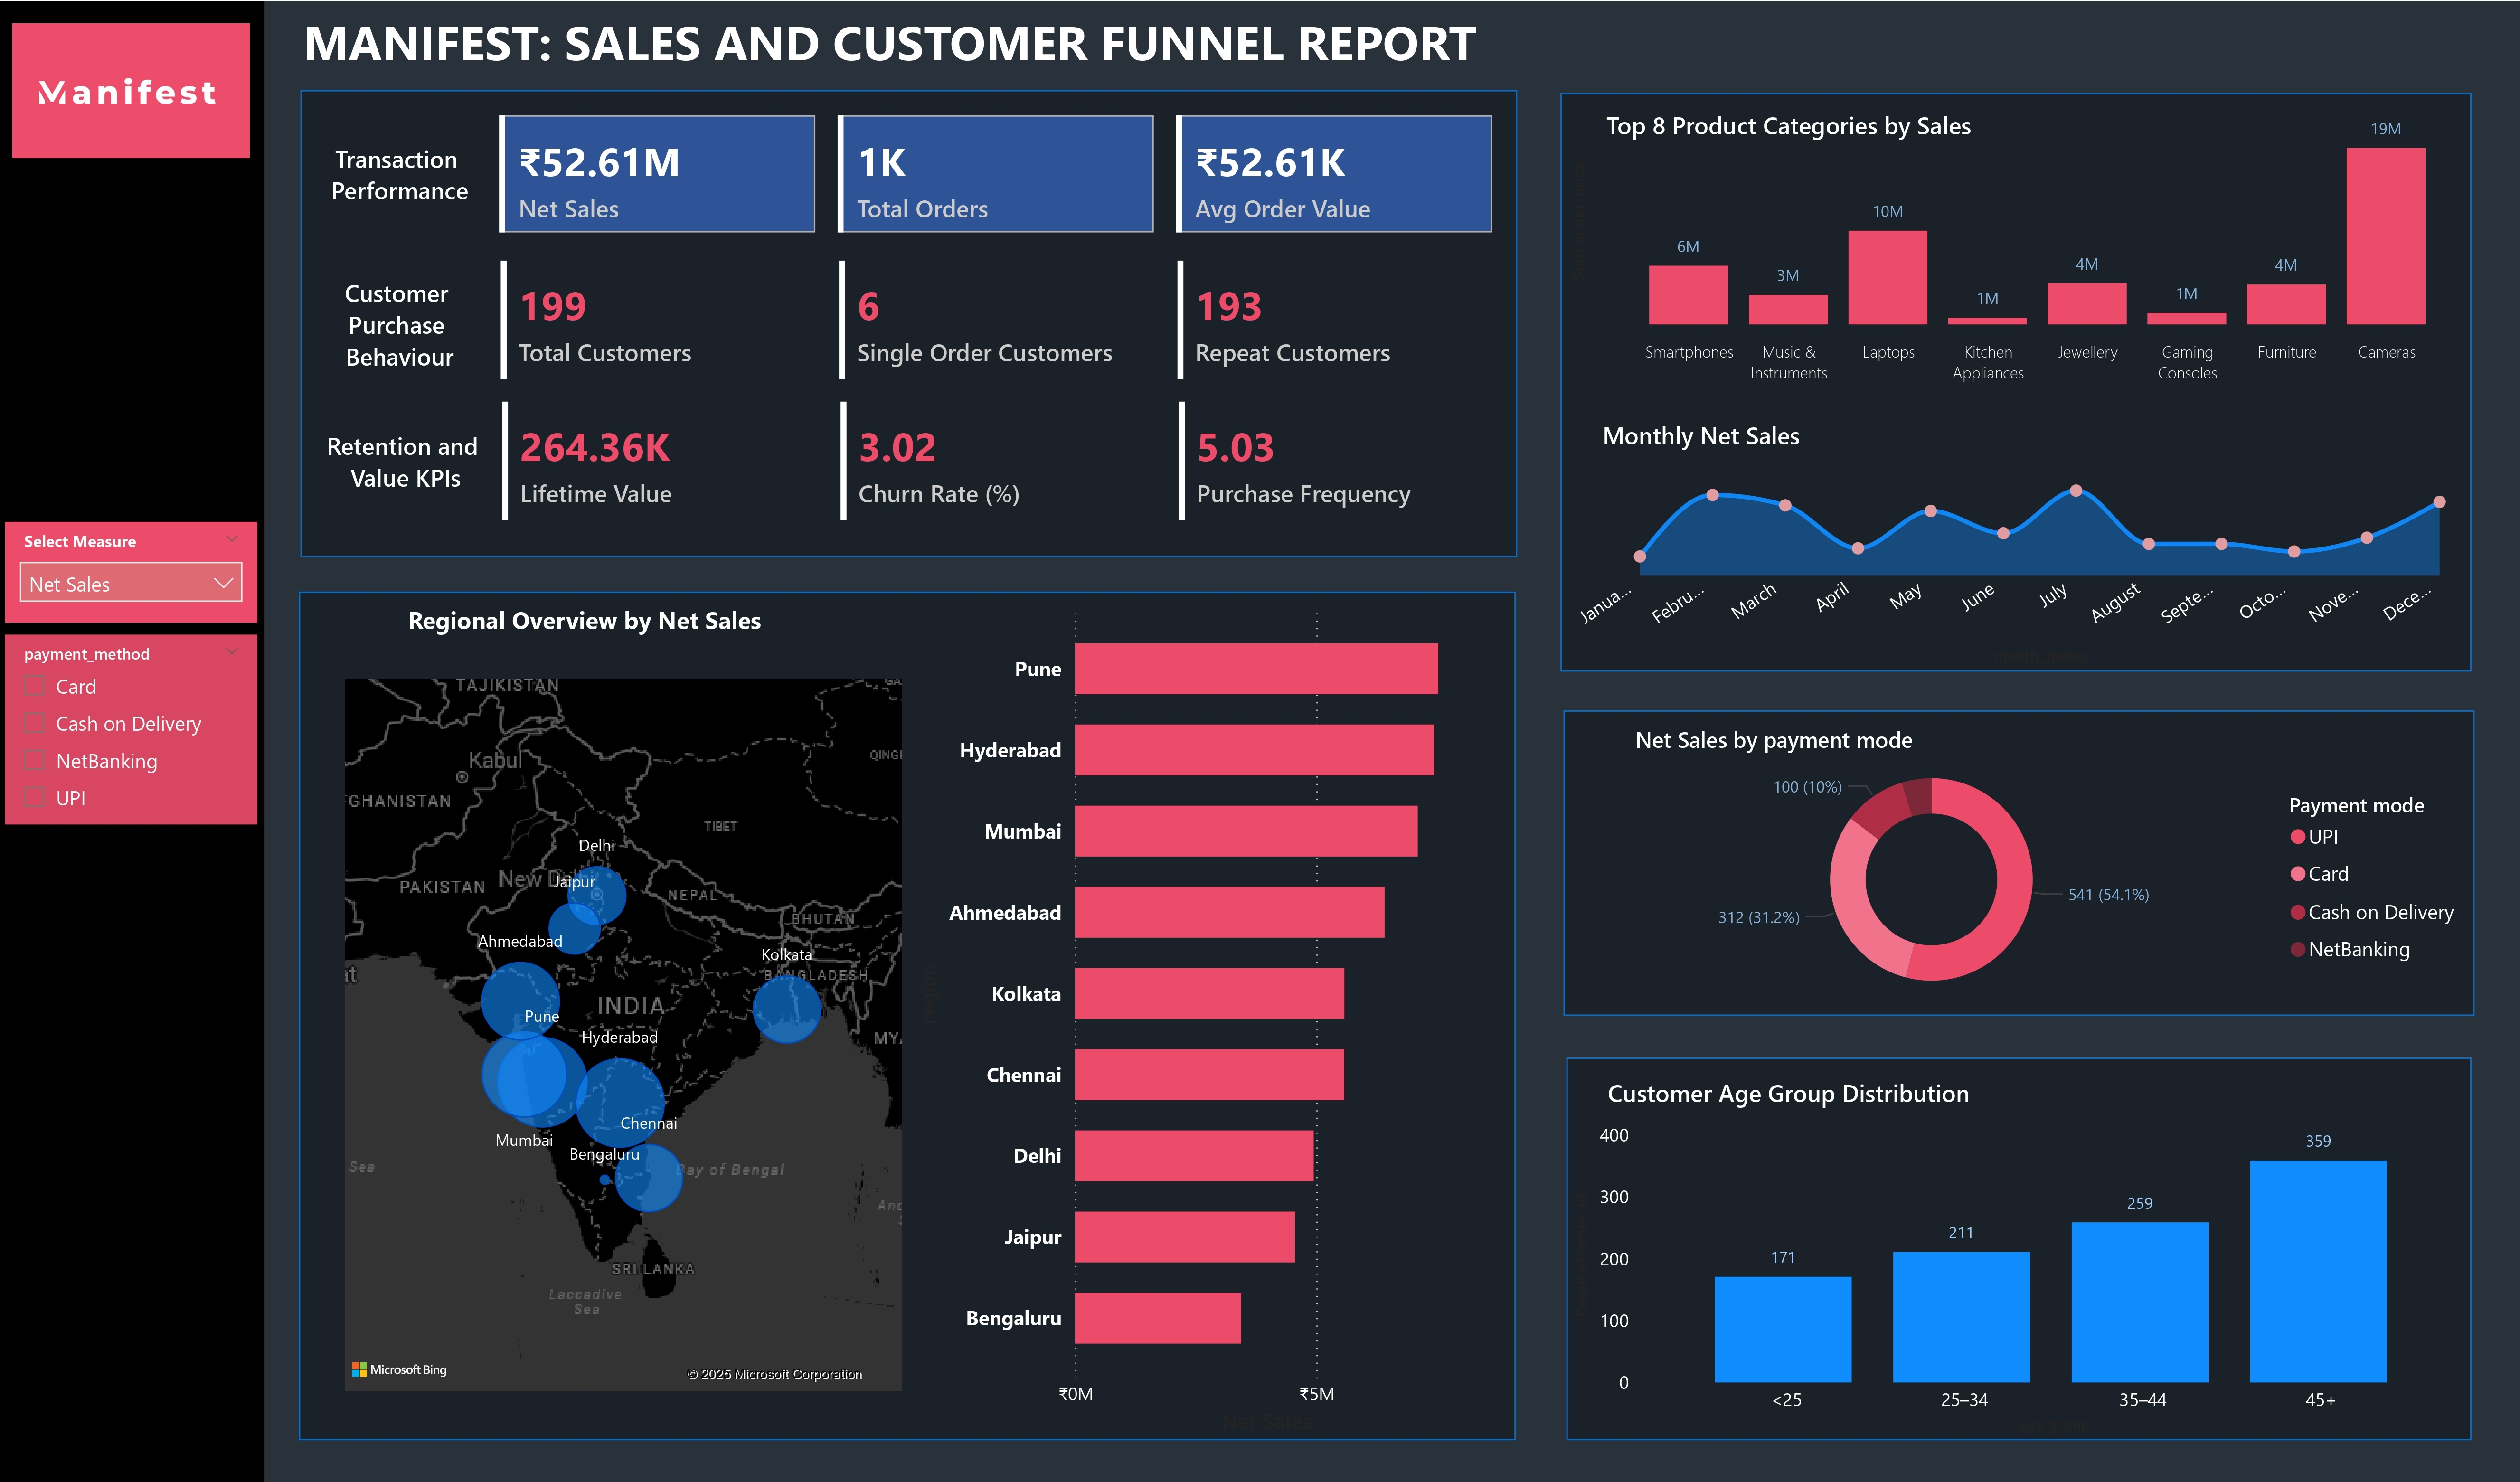

This screenshot's page, from the dashboard's own definition file:
{"tool":"powerbi","page":{"name":"dashboard","canvas":[1700,1000],"ordinal":0},"visuals":[{"type":"shape","box":[0,0,178.8,1000],"z":0},{"type":"textbox","box":[200,0,1210,60],"z":1000},{"type":"shape","box":[202.5,60,820,315],"z":2000},{"type":"cardVisual","fields":{"Data":["cleaned_data.Net Sales","cleaned_data.Total Orders","cleaned_data.Avg Order Value"]},"box":[331.8,71.8,680,90],"z":3000},{"type":"card","fields":{"Values":["cleaned_data.Transaction Perf"]},"box":[184.4,61.1,171.1,111.1],"z":4000},{"type":"cardVisual","fields":{"Data":["cleaned_data.Total Customers","cleaned_data.Single Order Customers","cleaned_data.Repeat Customers"]},"box":[333.3,170,680,90],"z":5000},{"type":"card","fields":{"Values":["cleaned_data.Customer Purchase Behaviour"]},"box":[195.5,165.5,149.1,100],"z":6000},{"type":"cardVisual","fields":{"Data":["cleaned_data.Lifetime Value","cleaned_data.Churn Rate (%)","cleaned_data.Purchase Frequency"]},"box":[333.8,265,680,90],"z":7000},{"type":"card","fields":{"Values":["cleaned_data.Retention and Value KPIs"]},"box":[200,260,147.5,100],"z":8000},{"type":"shape","box":[202,398,820,572],"z":9000},{"type":"map","fields":{"Size":["cleaned_data.Net Sales"],"Category":["cleaned_data.region"]},"box":[228.3,451.7,385,490],"z":10000},{"type":"barChart","fields":{"Y":["cleaned_data.Net Sales"],"Category":["cleaned_data.region"]},"box":[613.3,398.3,388.3,571.7],"z":11000},{"type":"card","fields":{"Values":["cleaned_data.Map Title"]},"box":[233.6,400,321.4,39.3],"z":12000},{"type":"shape","box":[1052,62,614,390],"z":13000},{"type":"areaChart","fields":{"Y":["cleaned_data.net_price"],"Category":["cleaned_data.month_name"]},"box":[1053.3,292.2,615.6,160],"z":14000},{"type":"columnChart","fields":{"Category":["cleaned_data.category_name"],"Y":["cleaned_data.net_price"]},"box":[1053.8,65,613.8,200],"z":15000},{"type":"card","fields":{"Values":["cleaned_data.Top 8 Product Categories"]},"box":[1052.5,71.2,306.2,30],"z":16000},{"type":"card","fields":{"Values":["cleaned_data.Monthly Net Sales"]},"box":[993.8,280,306.2,30],"z":17000},{"type":"shape","box":[1054,478,614,206],"z":18000},{"type":"donutChart","fields":{"Category":["cleaned_data.payment_method"],"Y":["cleaned_data.order_id"]},"box":[1055.7,500,613.6,184.3],"z":19000},{"type":"card","fields":{"Values":["cleaned_data.Payement Title"]},"box":[1056,486,280,28],"z":20000},{"type":"slicer","fields":{"Values":["Select Measure.Select Measure"]},"box":[4.1,351.2,170,68.2],"z":21000},{"type":"shape","box":[1056,712,610,258],"z":21001},{"type":"slicer","fields":{"Values":["cleaned_data.payment_method"]},"box":[4,427,170,128],"z":21002},{"type":"columnChart","fields":{"Category":["cleaned_data.age group"],"Y":["cleaned_data.order_id"]},"box":[1055.6,745.6,610,224.4],"z":21003},{"type":"card","fields":{"Values":["cleaned_data.Age group distribution"]},"box":[1053.3,722.7,305.3,30],"z":21004},{"type":"image","box":[4.4,8.9,170,102.2],"z":21005}]}

Visuals, with their boxes in screenshot pixels (x1, y1, x2, y2), scaled from the page's 1700x1000 canvas onto the 2520x1482 screenshot:
shape: 0,0,265,1482
textbox: 296,0,2090,89
shape: 300,89,1516,556
cardVisual - cleaned_data.Net Sales x cleaned_data.Total Orders: 492,106,1500,240
card - cleaned_data.Transaction Perf: 274,91,527,255
cardVisual - cleaned_data.Total Customers x cleaned_data.Single Order Customers: 494,252,1502,385
card - cleaned_data.Customer Purchase Behaviour: 290,245,511,394
cardVisual - cleaned_data.Lifetime Value x cleaned_data.Churn Rate (%): 495,393,1503,526
card - cleaned_data.Retention and Value KPIs: 296,385,515,534
shape: 300,590,1515,1437
map - cleaned_data.Net Sales x cleaned_data.region: 339,670,909,1396
barChart - cleaned_data.Net Sales x cleaned_data.region: 909,590,1485,1437
card - cleaned_data.Map Title: 346,593,823,651
shape: 1559,92,2470,670
areaChart - cleaned_data.net_price x cleaned_data.month_name: 1561,433,2474,670
columnChart - cleaned_data.category_name x cleaned_data.net_price: 1562,96,2472,393
card - cleaned_data.Top 8 Product Categories: 1560,105,2014,150
card - cleaned_data.Monthly Net Sales: 1473,415,1927,460
shape: 1562,708,2473,1014
donutChart - cleaned_data.payment_method x cleaned_data.order_id: 1565,741,2474,1014
card - cleaned_data.Payement Title: 1566,720,1981,762
slicer - Select Measure.Select Measure: 6,520,258,622
shape: 1566,1055,2470,1437
slicer - cleaned_data.payment_method: 6,633,258,822
columnChart - cleaned_data.age group x cleaned_data.order_id: 1565,1105,2469,1437
card - cleaned_data.Age group distribution: 1561,1071,2014,1115
image: 7,13,258,165
